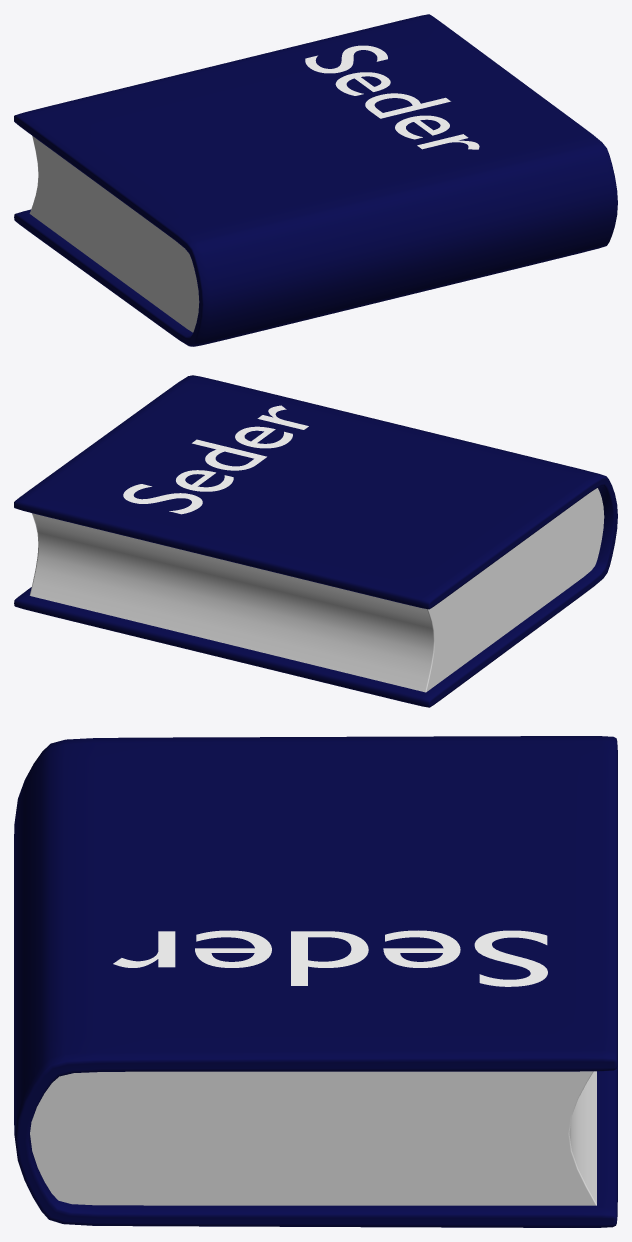
File: Libro1.2.fbx
3 views of the same model, one above another, from view 1: azimuth 30°, elevation 25°; view 2: azimuth 150°, elevation 25°; view 3: azimuth 270°, elevation 25° (orthographic). The views are drawn at different scales.
Visible parts, largest first — view 1: Libro; view 2: Libro; view 3: Libro.
Part boxes in pixels (left/top/right/bottom): Libro: left=14, top=14, right=617, bottom=346; Libro: left=14, top=375, right=617, bottom=707; Libro: left=14, top=736, right=617, bottom=1227.
Bounding box in the file's own units: 200 × 52.47 × 158.
